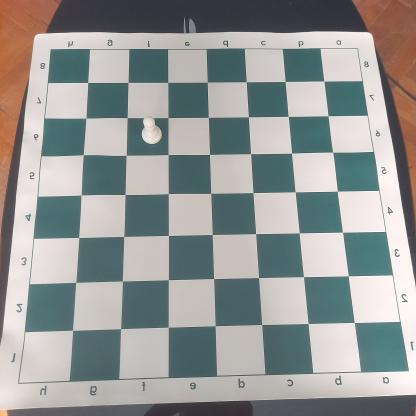white-pawn: (138, 116, 164, 145)
